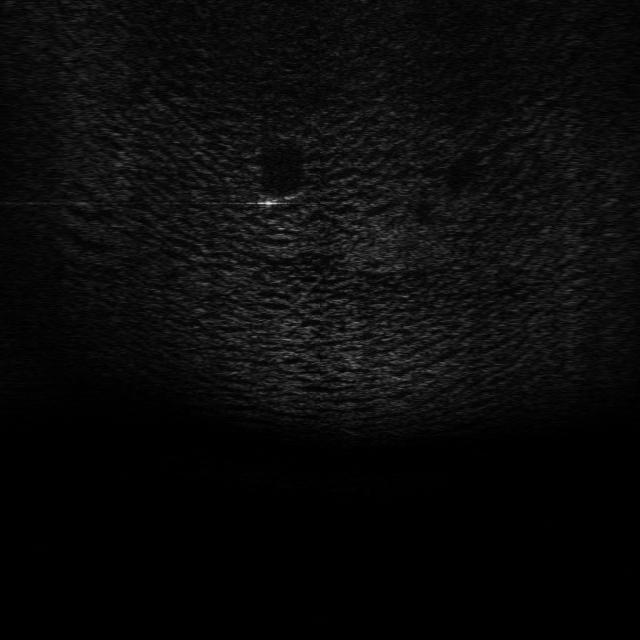plane: (254, 184, 307, 209)
